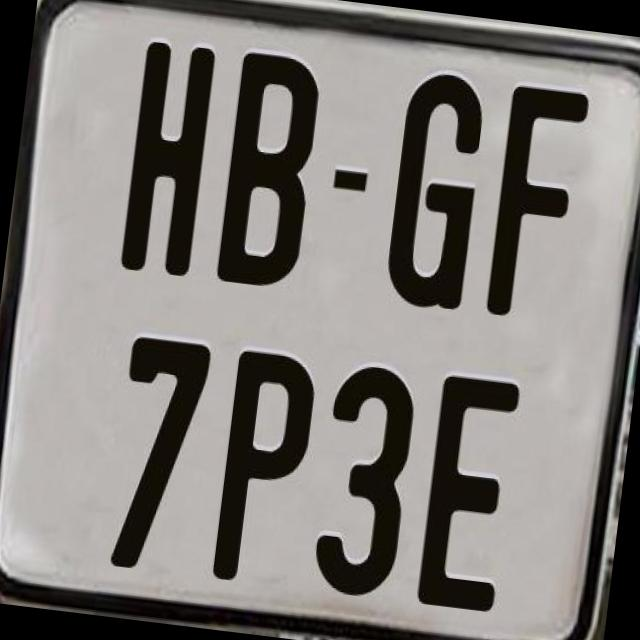3: (306, 360, 416, 607)
7: (104, 331, 216, 578)
B: (213, 51, 327, 292)
E: (416, 374, 522, 616)
F: (485, 79, 597, 320)
G: (382, 70, 493, 315)
H: (116, 35, 220, 274)
P: (212, 344, 322, 587)
